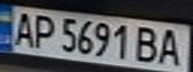1: (109, 20, 133, 61)
5: (54, 16, 78, 53)
6: (75, 18, 96, 56)
9: (90, 20, 115, 58)
A: (154, 26, 187, 66), (9, 9, 39, 47)
B: (133, 24, 163, 64)
P: (30, 11, 57, 51)
